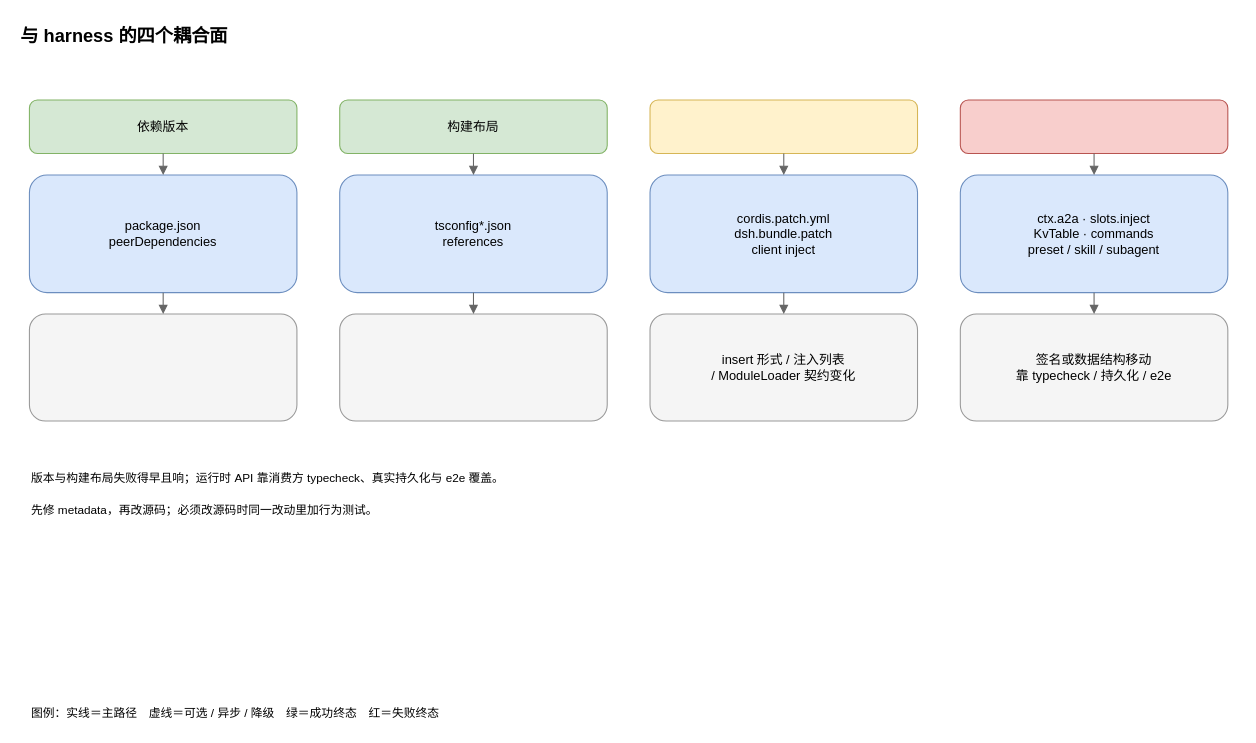
The diagram is 1256 pixels wide and 743 high, and some of its shapes have lost their labels. The shapes that lost their labels are listed below. From the top down, each one's centre as x and y in pixels, then its label:
At point (783, 126): "挂载与清单".
At point (1093, 126): "运行时 API".
At point (162, 367): "范围不覆盖运行版本 预检拒绝加载".
At point (473, 367): "被引用包拆分 / 改名 tsc -b 先失败".
